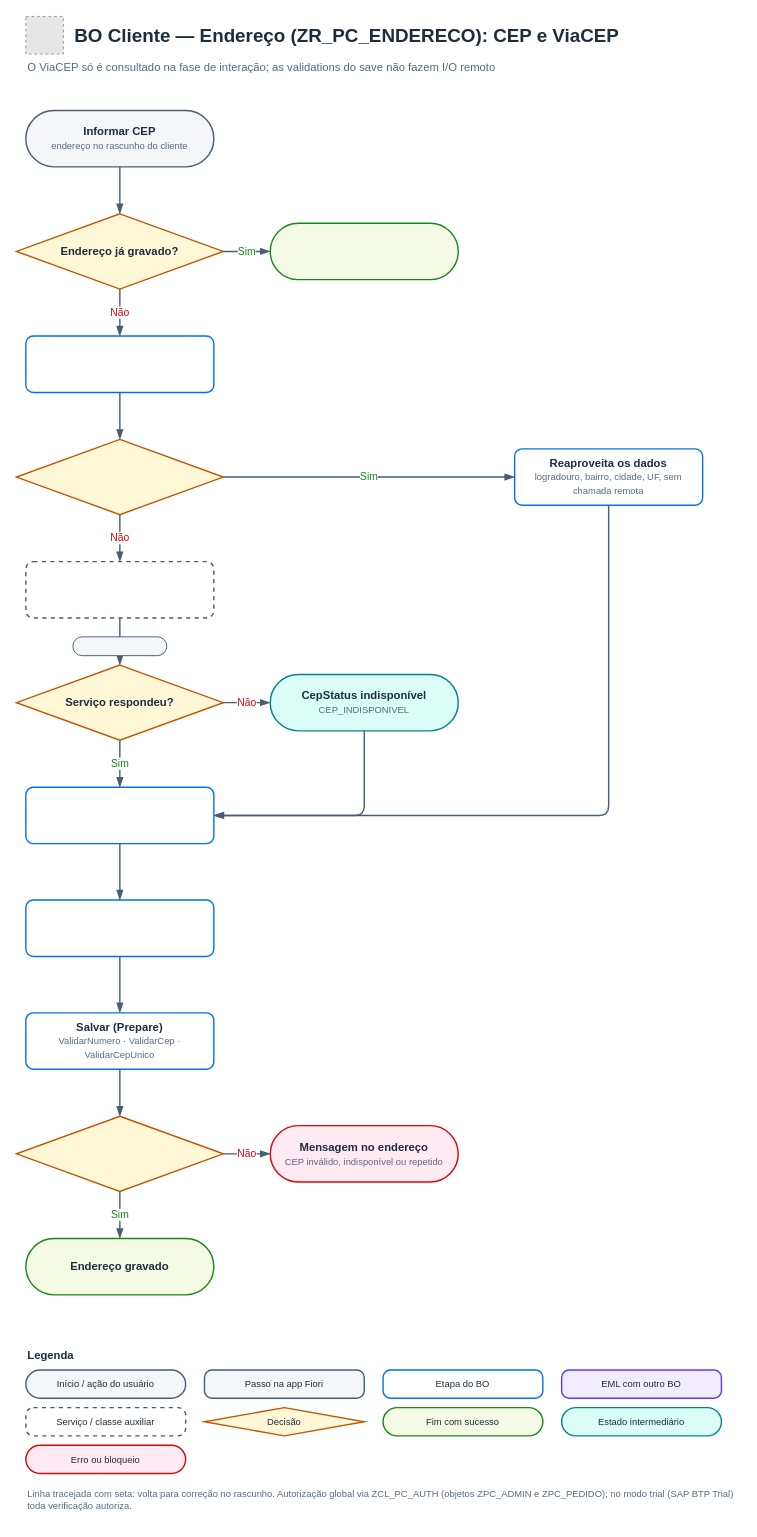
Some shapes in this 757 by 1537 pixel diagram are drawn without their labels. Grey dashed boxes stand in for pictures. The shapes that lost their labels are listed below. From the top down, each one's centre as x and y in pixels, then its label:
point (364, 251): Sem consulta CEP somente leitura
point (119, 364): PreencherEnderecoViaCep normaliza o CEP (8 dígitos)
point (119, 476): CEP já cadastrado? (exceto CEP geral)
point (119, 589): Consulta ViaCEP ZCL_PC_VIACEP (HTTP)
point (119, 646): HTTPS
point (119, 815): Side effects Logradouro, Bairro, Cidade, UF, Estado, CepGeral, CepStatus
point (119, 928): DefinirPrincipalInicial 1º endereço do cliente vira principal
point (119, 1153): Válido?
